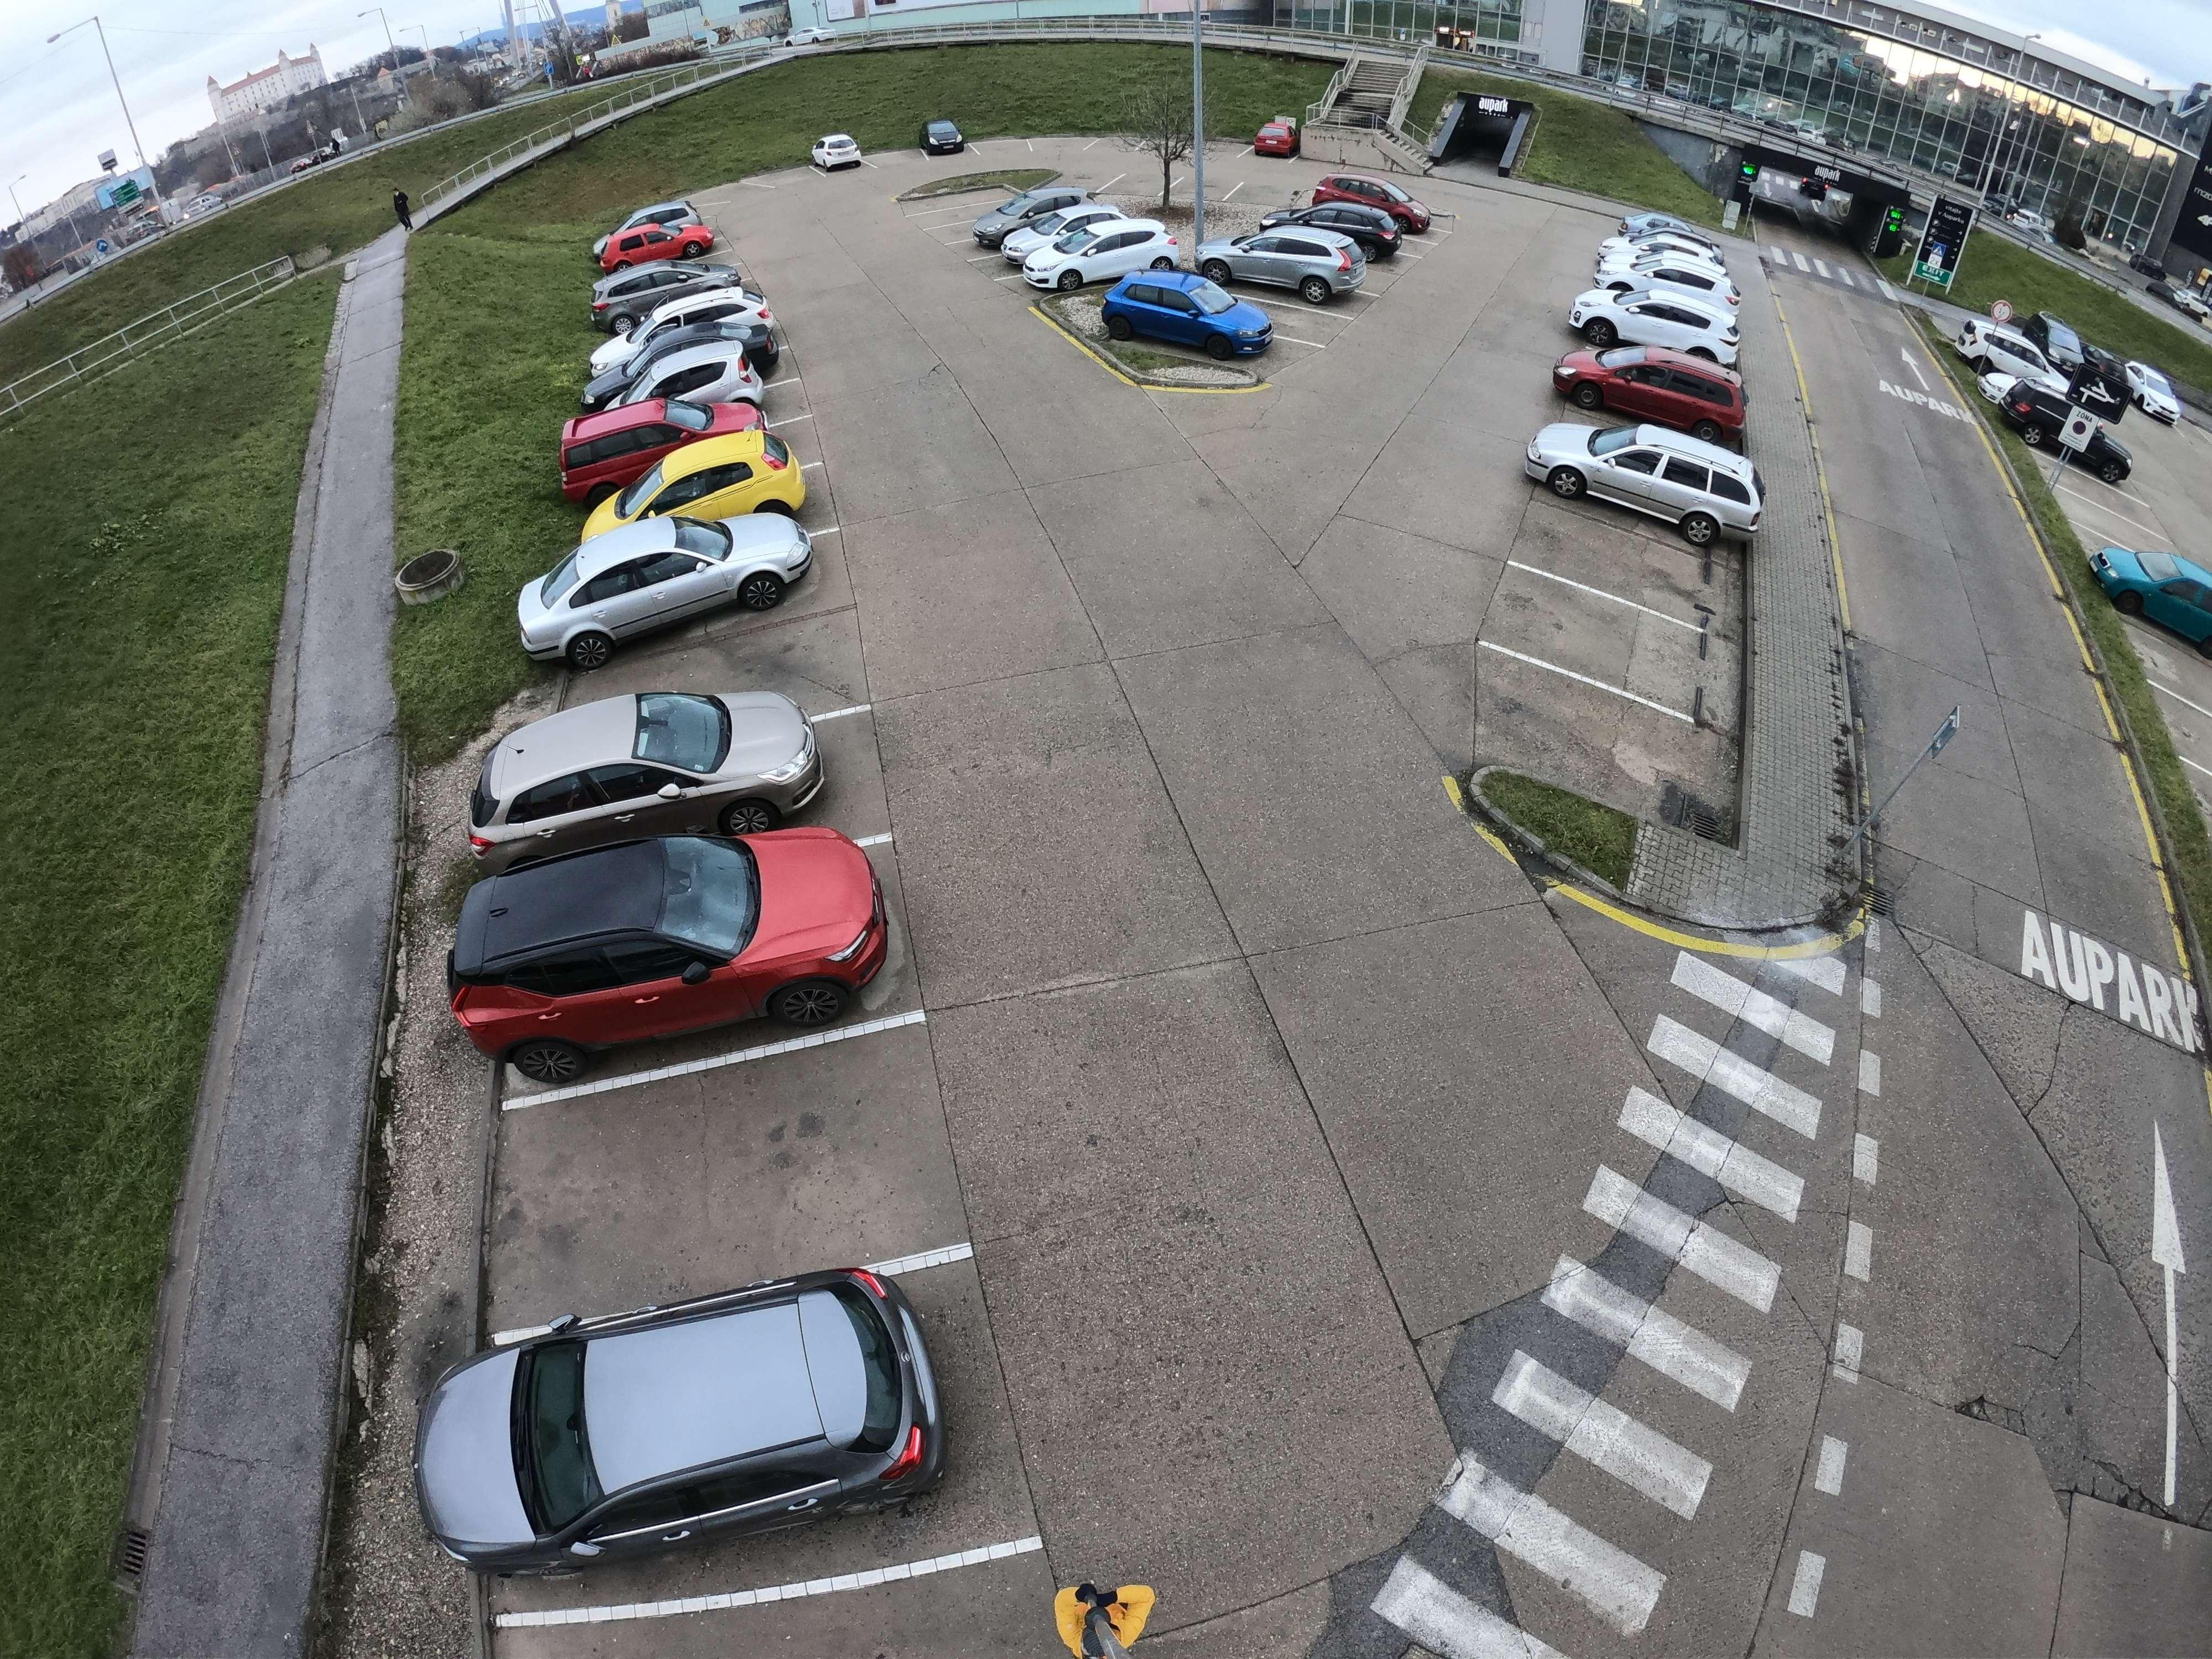empty: (421, 1253, 989, 1567), (411, 821, 911, 1056), (470, 688, 841, 850), (514, 509, 826, 664), (1527, 425, 1766, 535), (1080, 272, 1278, 376), (1550, 352, 1747, 446), (585, 444, 789, 528), (1188, 232, 1360, 312), (594, 347, 763, 425), (1021, 218, 1169, 295), (604, 282, 758, 349), (1298, 183, 1425, 249), (1597, 293, 1737, 350), (967, 185, 1096, 244), (1320, 169, 1439, 234), (1620, 246, 1730, 300), (2022, 314, 2097, 371), (2118, 364, 2182, 427), (799, 131, 867, 178), (1245, 120, 1318, 164), (916, 118, 977, 159)
occupied: (611, 1103, 909, 1279), (622, 629, 794, 704), (1503, 694, 1625, 786), (2074, 476, 2156, 559), (1547, 523, 1648, 584), (1527, 594, 1615, 664)
